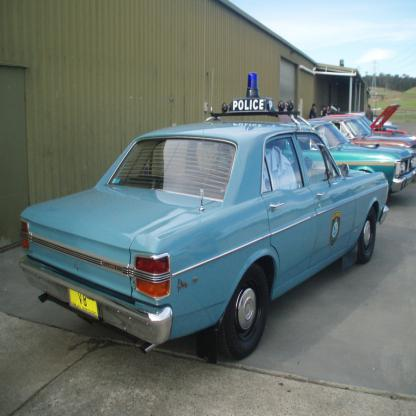Car: (18, 72, 415, 362)
